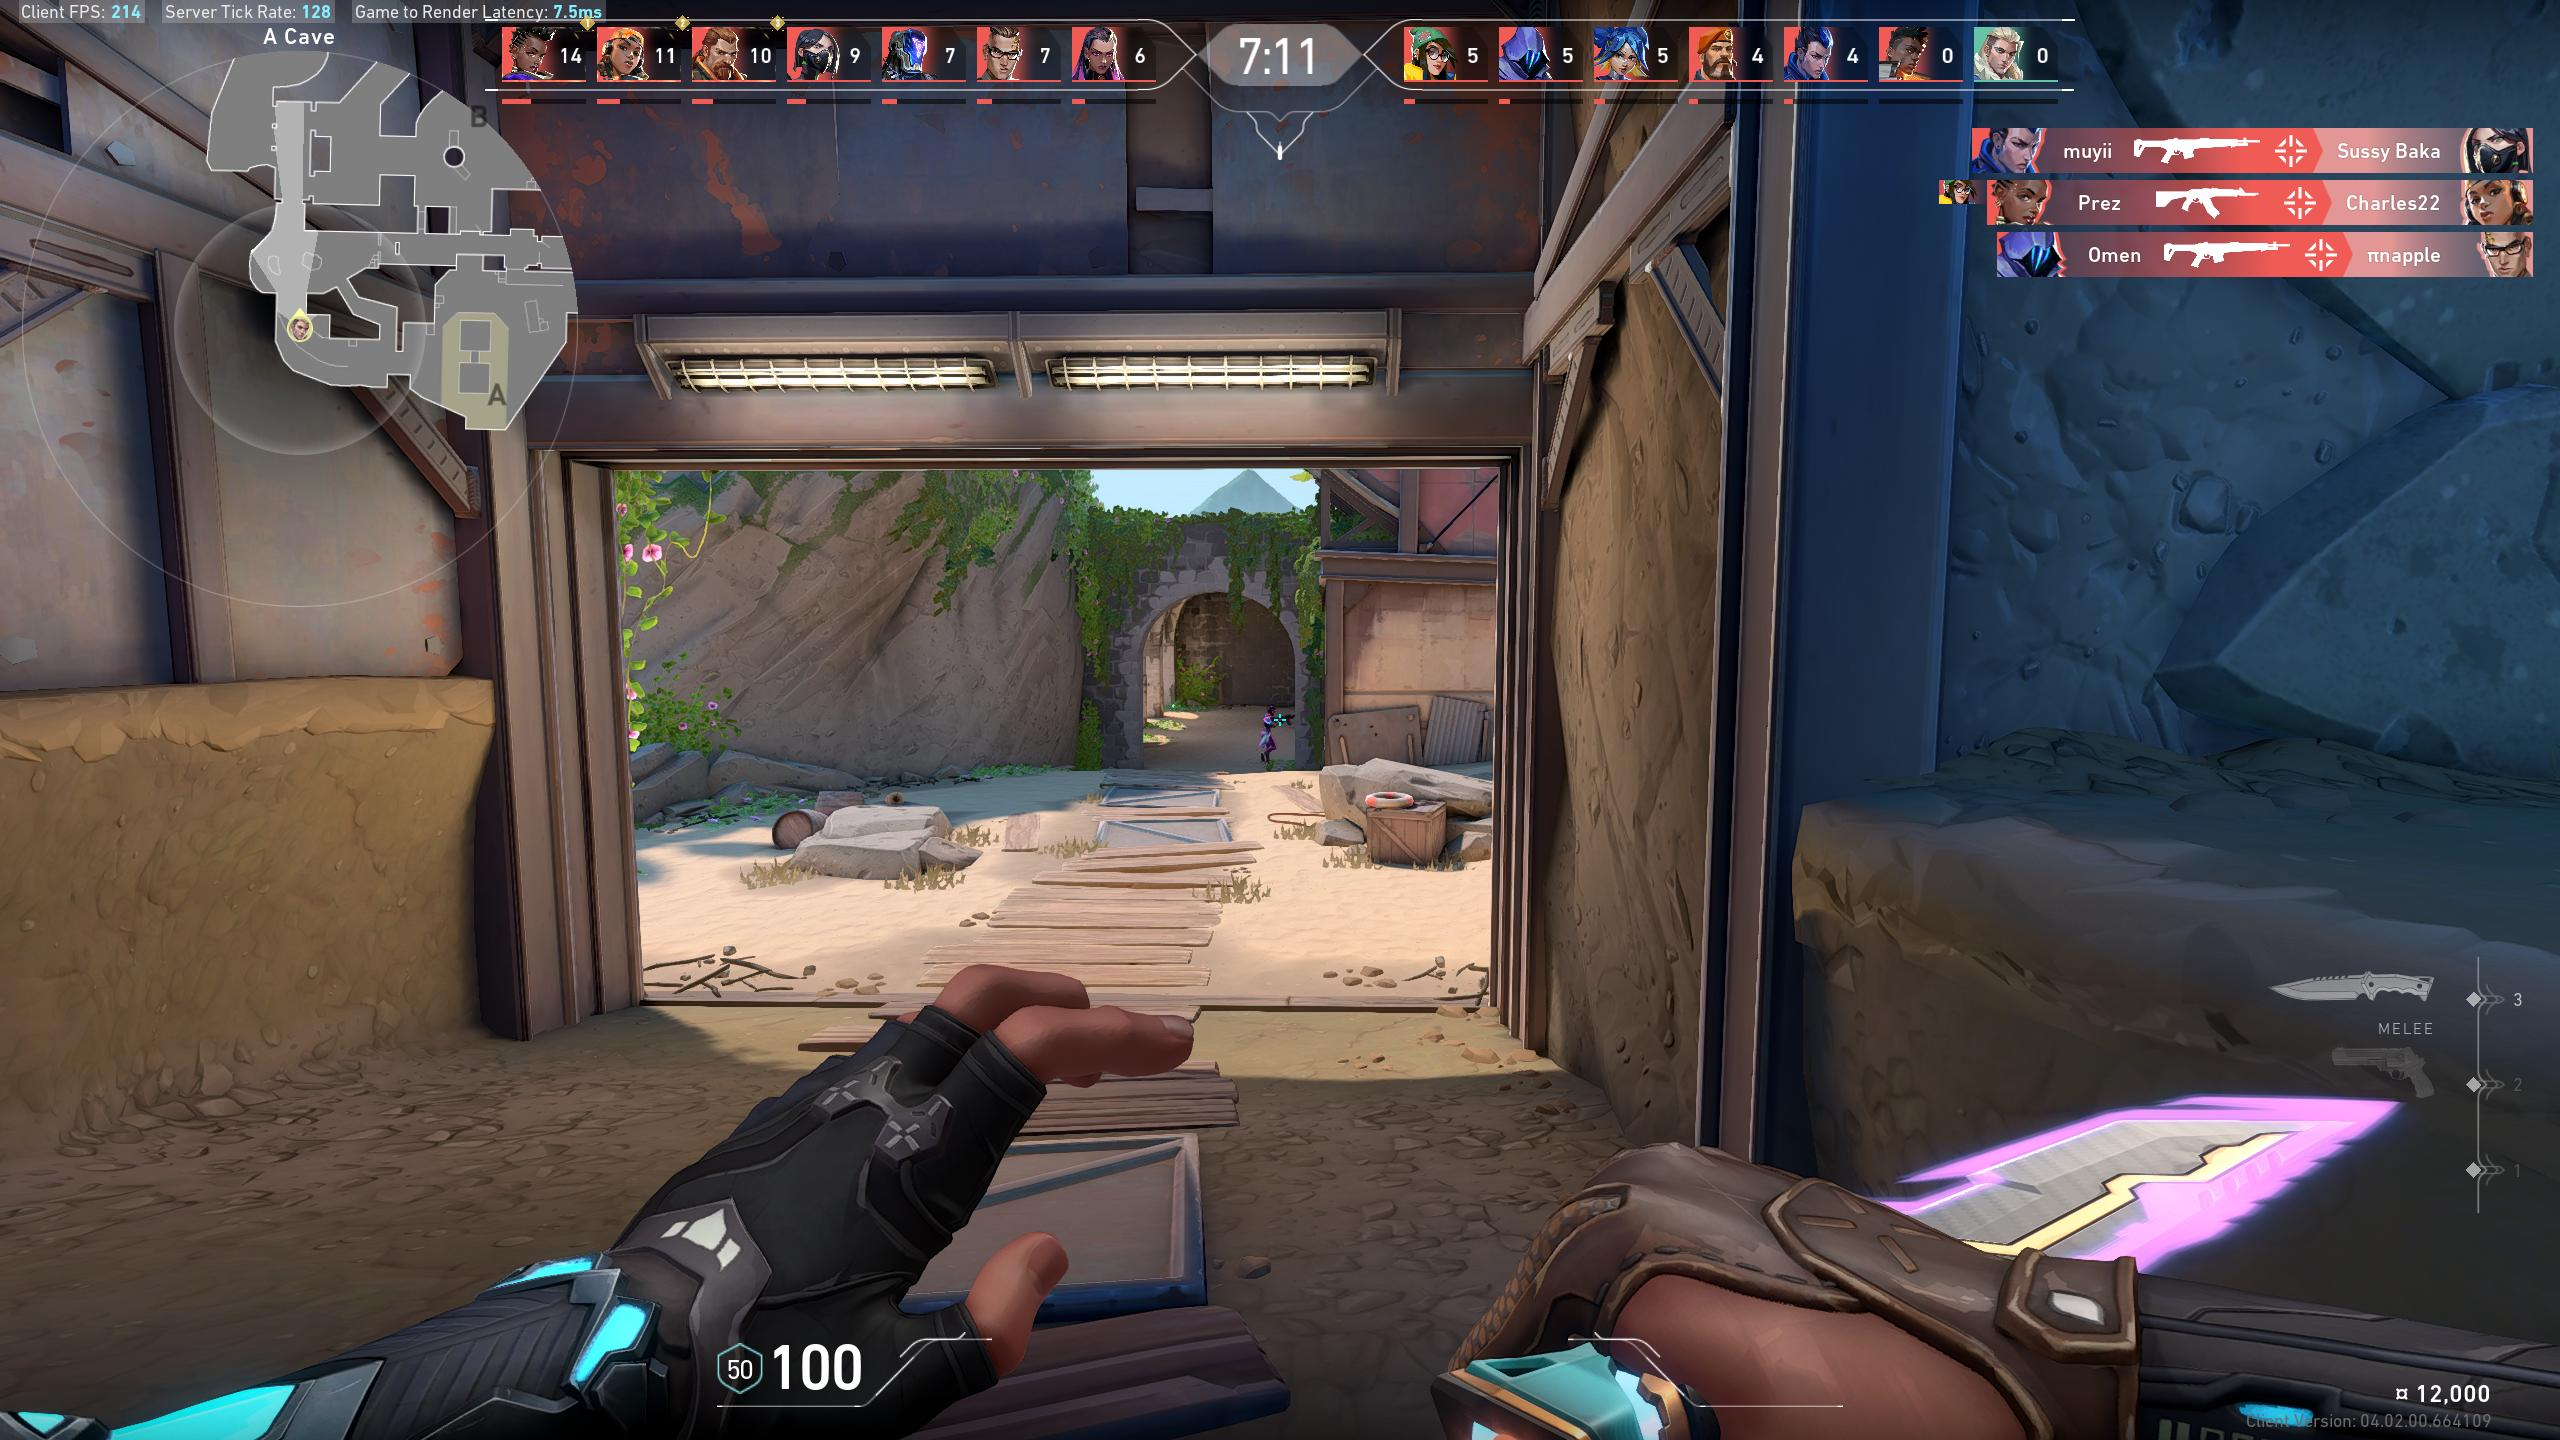enemyBody: (1266, 717, 1271, 733)
enemyHead: (1269, 709, 1275, 716)
